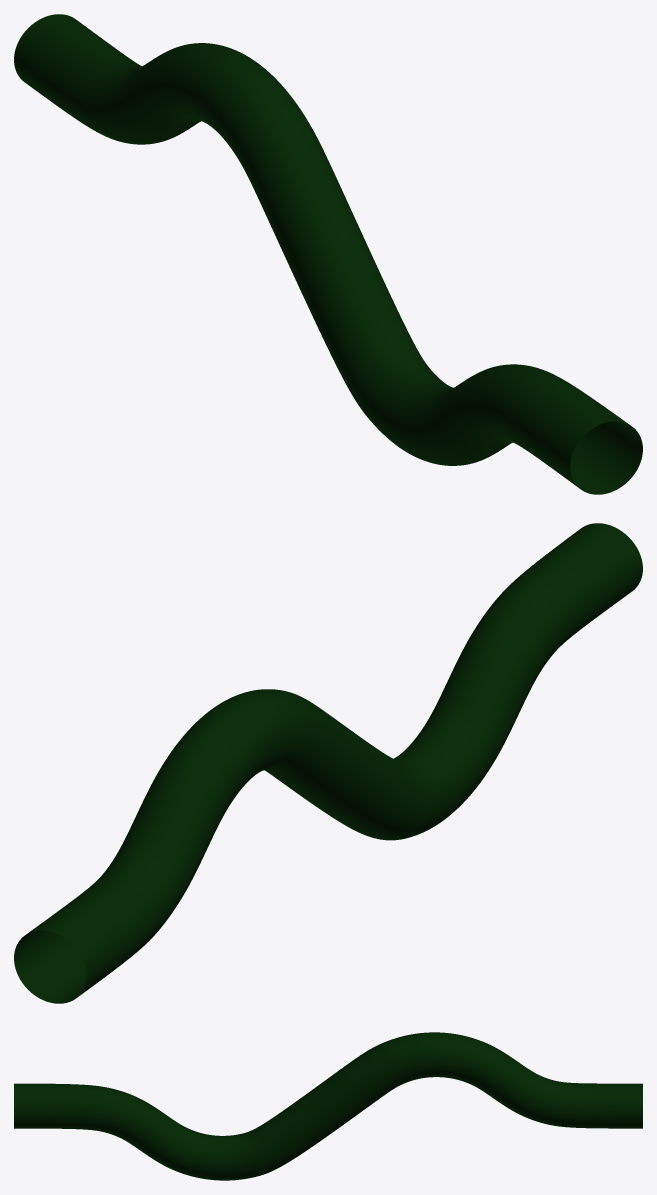
File: cable.fbx
The picture shows the model from 3 angles, top to bottom: view 1: azimuth 30°, elevation 25°; view 2: azimuth 150°, elevation 25°; view 3: azimuth 270°, elevation 25°; orthographic projection. The views are drawn at different scales.
Parts seen in each view (by area): view 1: CABLE INTERMEDIO 1; view 2: CABLE INTERMEDIO 1; view 3: CABLE INTERMEDIO 1.
Boxes of the visible parts, x1,y1,x2,y2 form: CABLE INTERMEDIO 1: [14, 14, 642, 494]; CABLE INTERMEDIO 1: [14, 523, 642, 1003]; CABLE INTERMEDIO 1: [14, 1032, 642, 1180].
Bounding box in the file's own units: 2.24 × 7.48 × 29.6.
